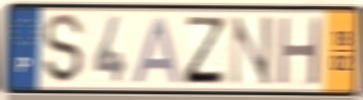4: (91, 13, 128, 85)
A: (130, 14, 184, 86)
H: (275, 14, 324, 88)
N: (227, 14, 275, 88)
S: (42, 12, 85, 87)
Z: (181, 14, 228, 86)
